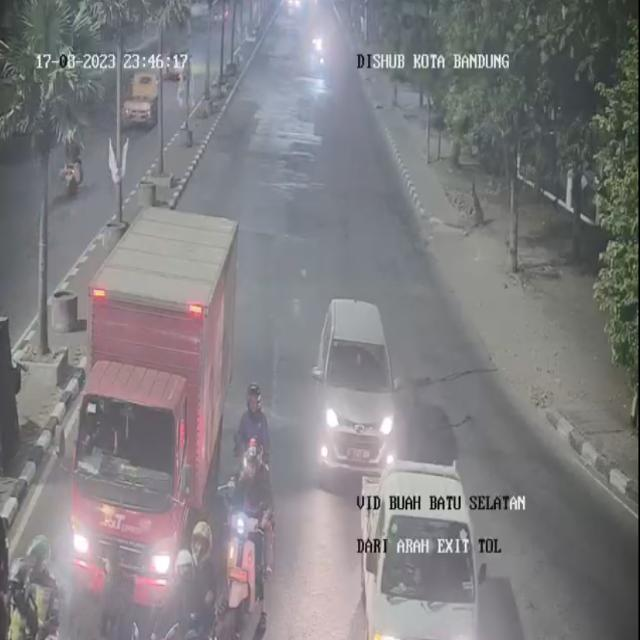cars: (364, 460, 496, 640), (314, 286, 401, 486)
motorcycle: (222, 436, 274, 631), (150, 516, 223, 640), (88, 537, 146, 640), (19, 530, 65, 639), (232, 382, 274, 477)
truck: (65, 206, 230, 620)
